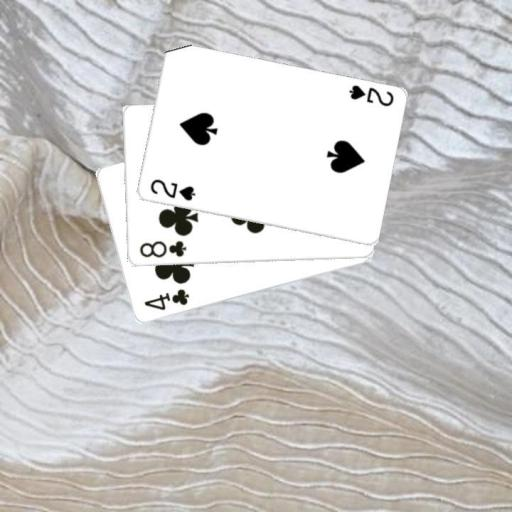2S: (146, 176, 197, 203), (345, 82, 395, 108)
4C: (140, 286, 191, 312)
8C: (136, 238, 187, 260)
